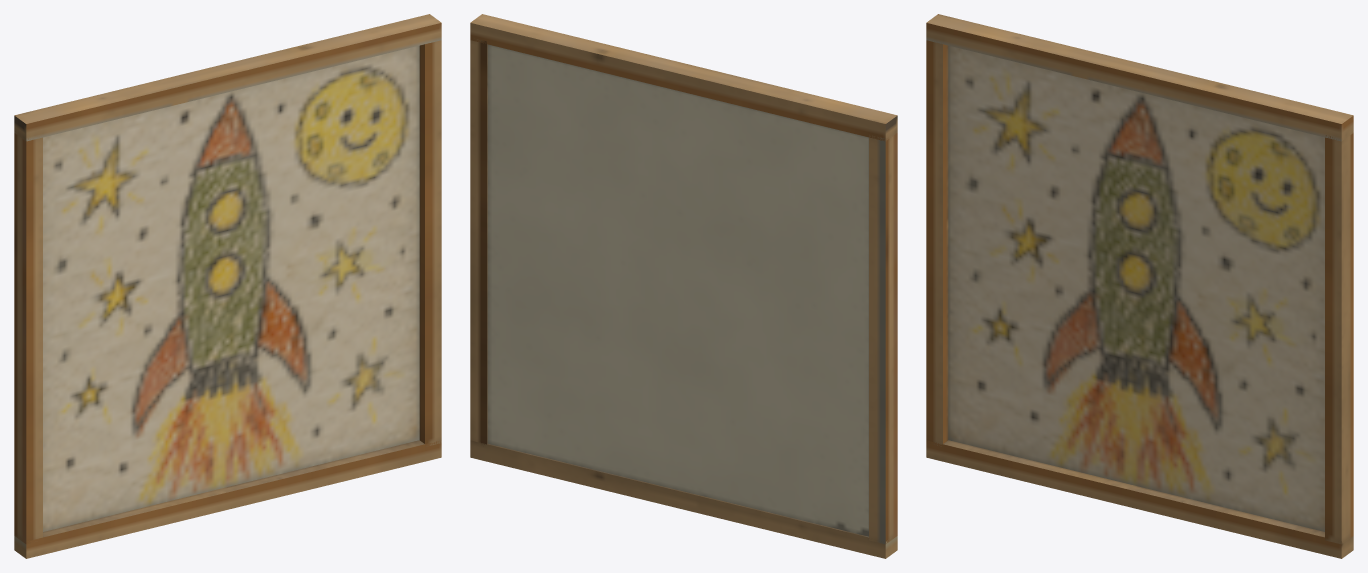
The model's file is H_Frame_Geometric.fbx.
3 views of the same model, side by side, from view 1: azimuth 30°, elevation 25°; view 2: azimuth 150°, elevation 25°; view 3: azimuth 330°, elevation 25° (orthographic).
Parts seen in each view (by area): view 1: H_Frame_Geometric; view 2: H_Frame_Geometric; view 3: H_Frame_Geometric.
Boxes of the visible parts, <box> form: H_Frame_Geometric: <box>14,14,441,558</box>; H_Frame_Geometric: <box>470,14,897,558</box>; H_Frame_Geometric: <box>926,14,1353,558</box>.
Size of the model in its own units: 300 by 300 by 15.
Materials: 1 (1 with a texture image).
